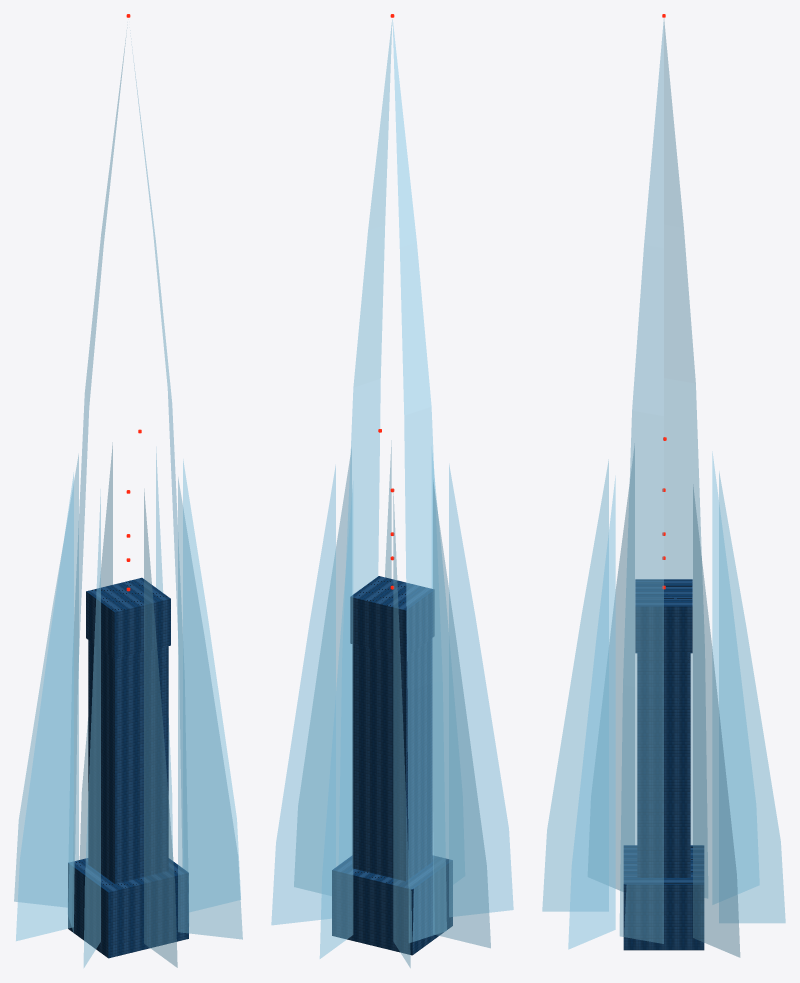
The model's file is Catalog-57.glb.
3 views of the same model, side by side, from view 1: azimuth 30°, elevation 25°; view 2: azimuth 150°, elevation 25°; view 3: azimuth 270°, elevation 25° (orthographic).
Parts seen in each view (by area): view 1: Metropolis Crystal Blue, Metropolis Glass Azure; view 2: Metropolis Crystal Blue, Metropolis Glass Azure; view 3: Metropolis Crystal Blue, Metropolis Glass Azure.
Part boxes in pixels (left/top/right/bottom): Metropolis Crystal Blue: left=14, top=27, right=242, bottom=967; Metropolis Glass Azure: left=68, top=577, right=188, bottom=958; Metropolis Crystal Blue: left=271, top=19, right=513, bottom=967; Metropolis Glass Azure: left=332, top=576, right=452, bottom=955; Metropolis Crystal Blue: left=542, top=18, right=785, bottom=957; Metropolis Glass Azure: left=623, top=579, right=704, bottom=950.
Bounding box in the file's own units: 302 × 1254 × 302.
Materials: 16 (1 with a texture image).
